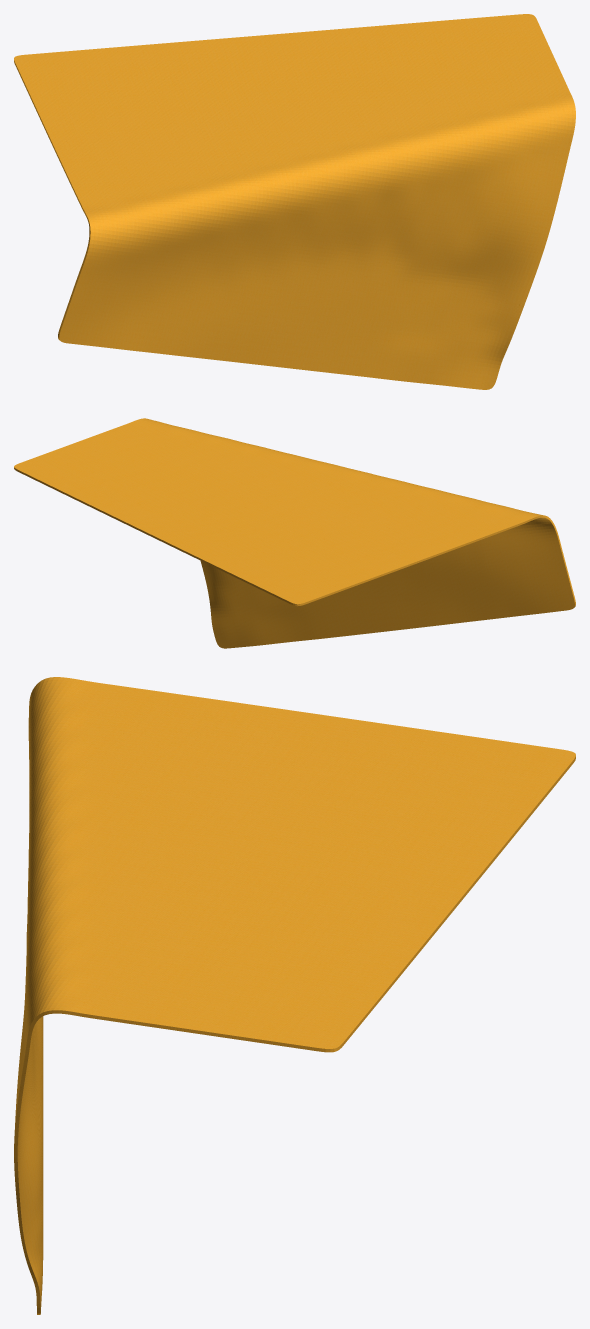
Rendered from OBJEK3.fbx.
3 renders of one model, top to bottom at view 1: azimuth 30°, elevation 25°; view 2: azimuth 150°, elevation 25°; view 3: azimuth 270°, elevation 25°, orthographic. The views are drawn at different scales.
Visible parts, largest first — view 1: Plane; view 2: Plane; view 3: Plane.
Boxes of the visible parts, bbox=[...] form: Plane: bbox=[14, 14, 575, 389]; Plane: bbox=[14, 418, 575, 648]; Plane: bbox=[14, 677, 575, 1314].
Size of the model in its own units: 252 by 109 by 151.
Materials: 1 (1 with a texture image).
